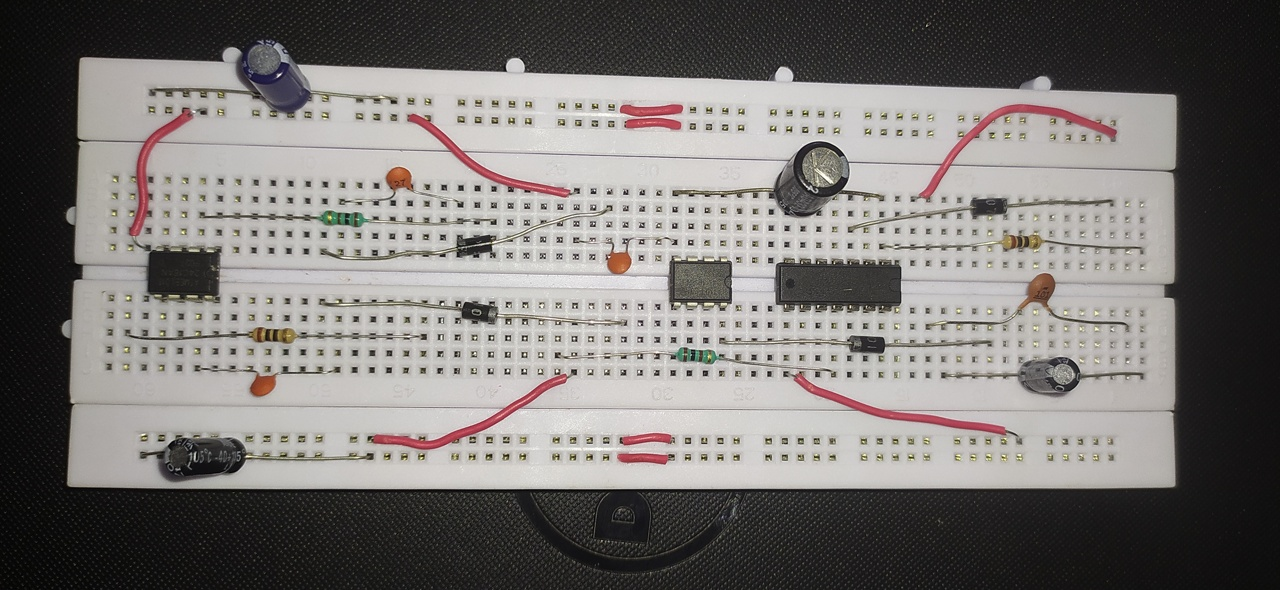capacitor: (770, 141, 851, 220), (240, 38, 313, 111), (146, 245, 222, 302), (164, 435, 250, 478), (1017, 356, 1083, 397), (1024, 271, 1057, 313), (607, 249, 635, 277), (385, 167, 414, 192), (251, 372, 278, 398)
resistor: (318, 208, 366, 230), (249, 327, 299, 347), (674, 346, 718, 368), (1000, 233, 1041, 252)
